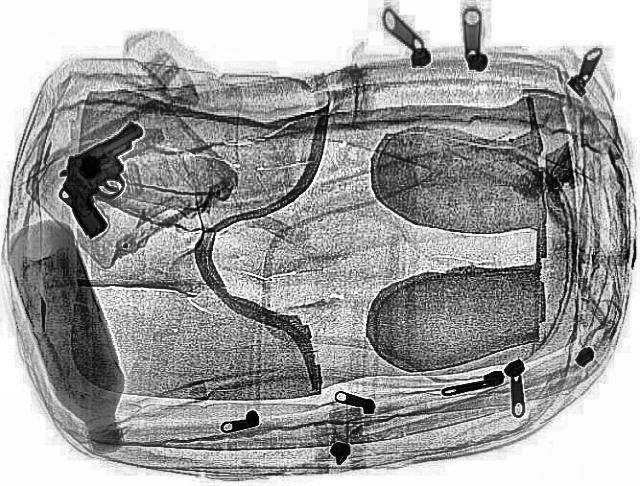Gun: (22, 117, 198, 237)
